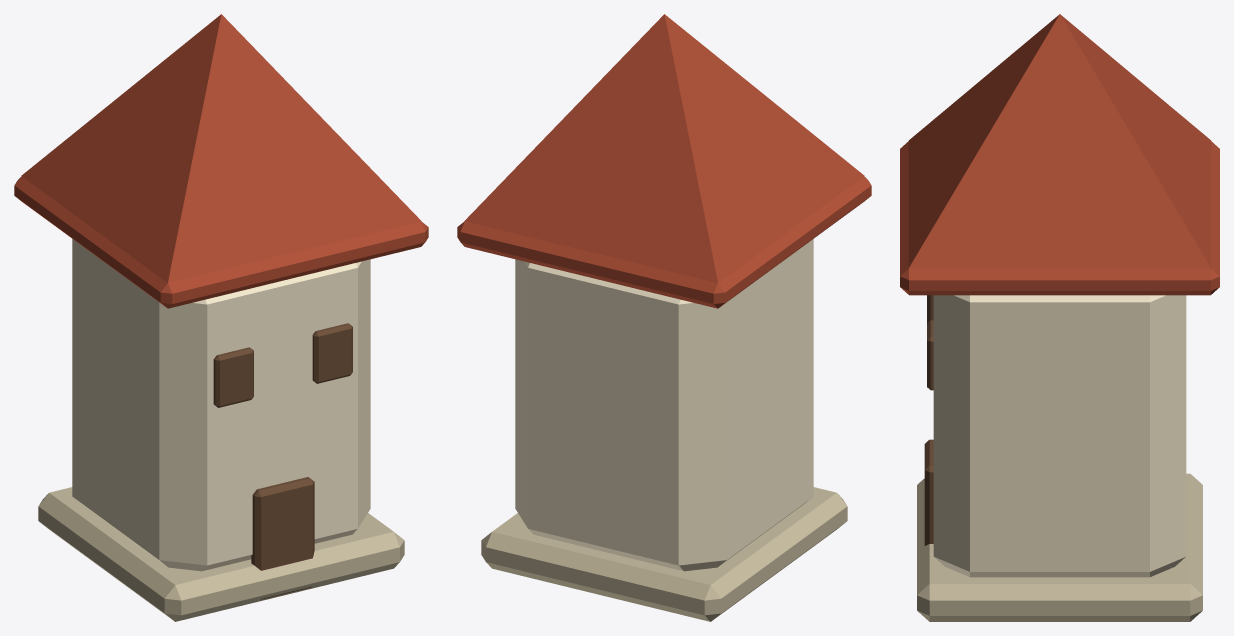
The model's file is ns-house-2c.glb.
The picture shows the model from 3 angles, left to right: view 1: azimuth 30°, elevation 25°; view 2: azimuth 150°, elevation 25°; view 3: azimuth 270°, elevation 25°; orthographic projection. The views are drawn at different scales.
Visible parts, largest first — view 1: Cube; view 2: Cube; view 3: Cube.
Boxes of the visible parts, <box> form: Cube: <box>14,14,428,621</box>; Cube: <box>457,14,871,621</box>; Cube: <box>900,14,1219,621</box>.
Bounding box in the file's own units: 0.38 × 0.725 × 0.38.
